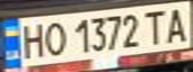1: (69, 16, 90, 53)
2: (121, 10, 145, 48)
3: (87, 15, 109, 52)
7: (103, 11, 124, 51)
A: (160, 3, 193, 44)
H: (15, 20, 48, 60)
O: (39, 18, 69, 56)
T: (139, 7, 169, 45)
